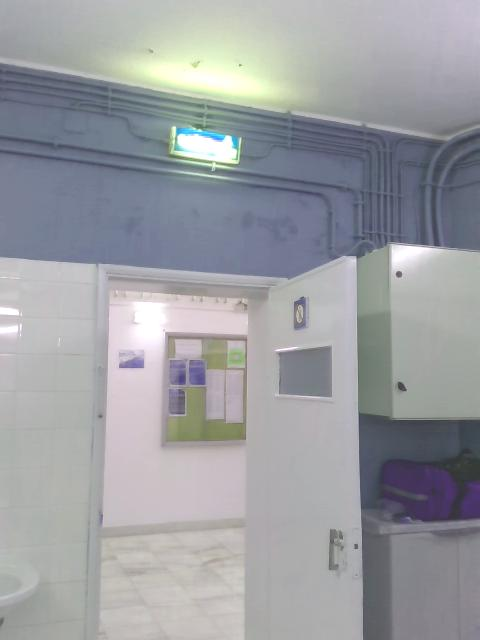open_door: (84, 262, 288, 639)
